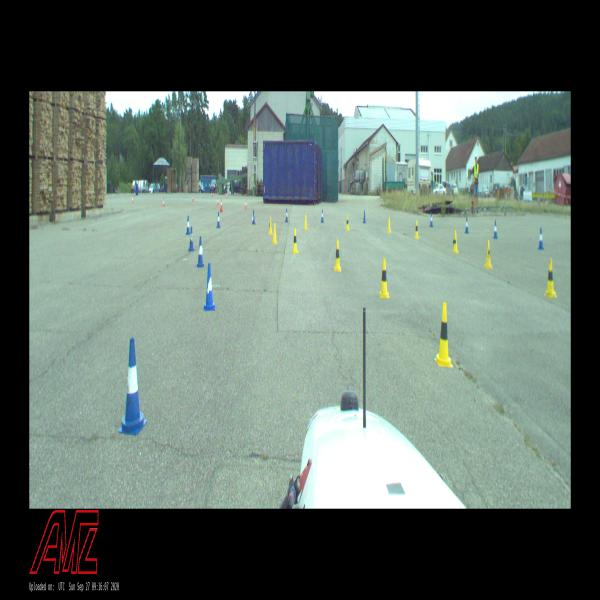blue_cone: (118, 338, 148, 434), (204, 263, 216, 310), (197, 236, 204, 267), (188, 226, 194, 251), (538, 228, 544, 249), (493, 220, 498, 239), (216, 212, 221, 228), (186, 216, 190, 235), (465, 216, 469, 234), (252, 210, 255, 225), (430, 213, 433, 227), (285, 209, 288, 222), (321, 209, 324, 222), (363, 210, 366, 223)
orange_cone: (220, 199, 223, 212), (245, 199, 247, 210), (163, 198, 165, 208), (132, 196, 134, 204), (217, 198, 219, 205)
yellow_cone: (434, 302, 453, 367), (544, 258, 557, 298), (379, 258, 390, 298), (334, 240, 341, 272), (485, 240, 492, 269), (452, 230, 459, 253), (292, 228, 298, 253), (272, 222, 278, 244), (268, 216, 273, 235), (414, 220, 419, 238), (346, 214, 350, 231), (387, 217, 391, 234), (304, 214, 308, 230)
